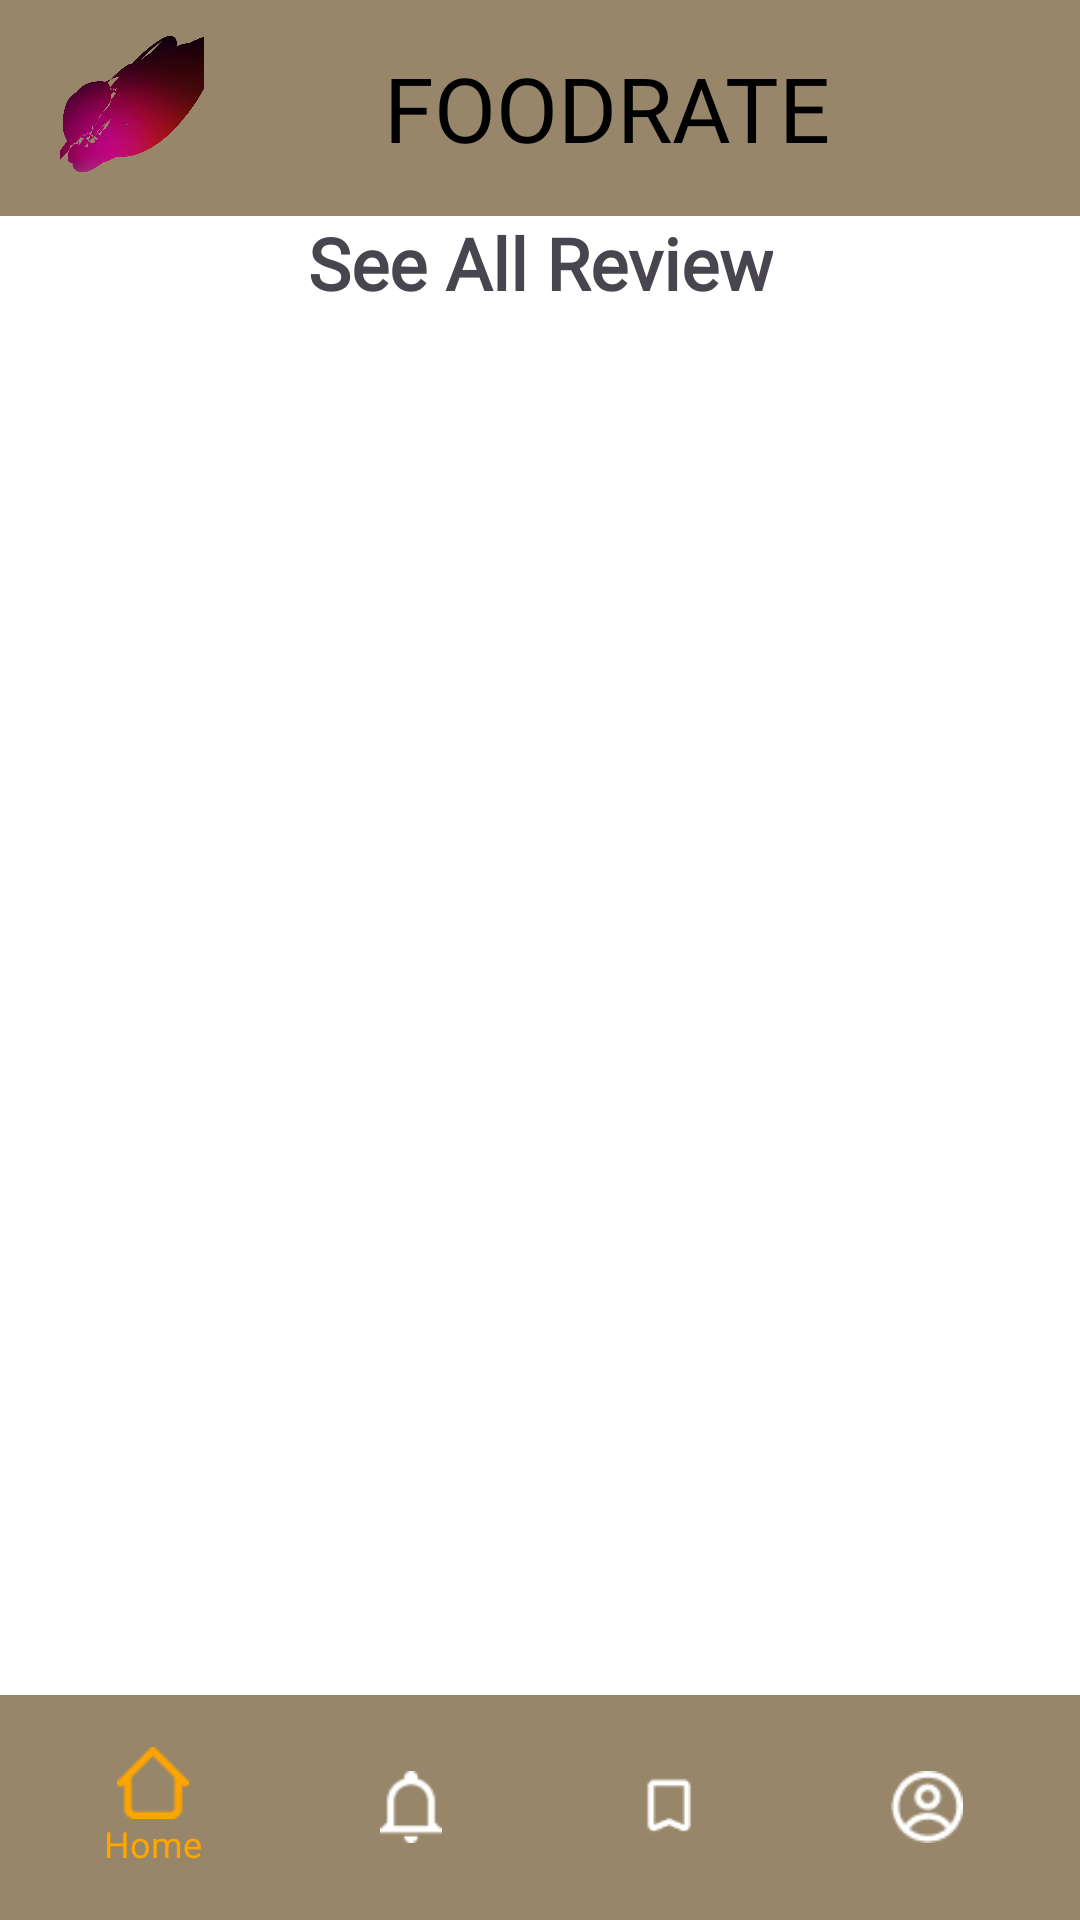

Icons on this 1080px x 1920px Android screen, each with its box as (x1, y1, x2, y2):
Notifications: (380, 1771, 442, 1843)
Profile: (891, 1771, 963, 1843)
Save: (647, 1779, 691, 1832)
